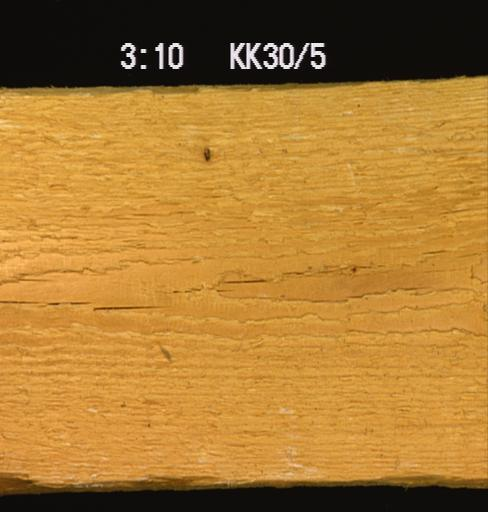small_knot: (196, 141, 215, 163)
split: (222, 254, 381, 288), (0, 287, 166, 317), (411, 240, 474, 261)
wave: (0, 466, 234, 495), (1, 82, 263, 98), (319, 466, 486, 485)
